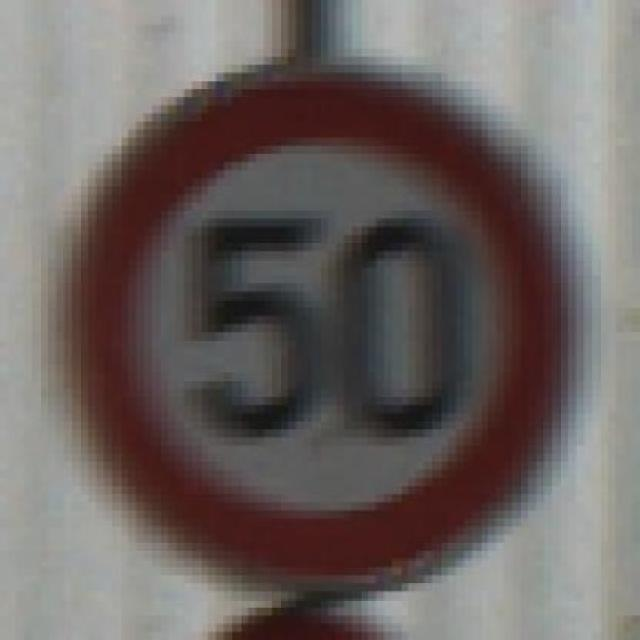Speed limit 50: (64, 61, 584, 584)
